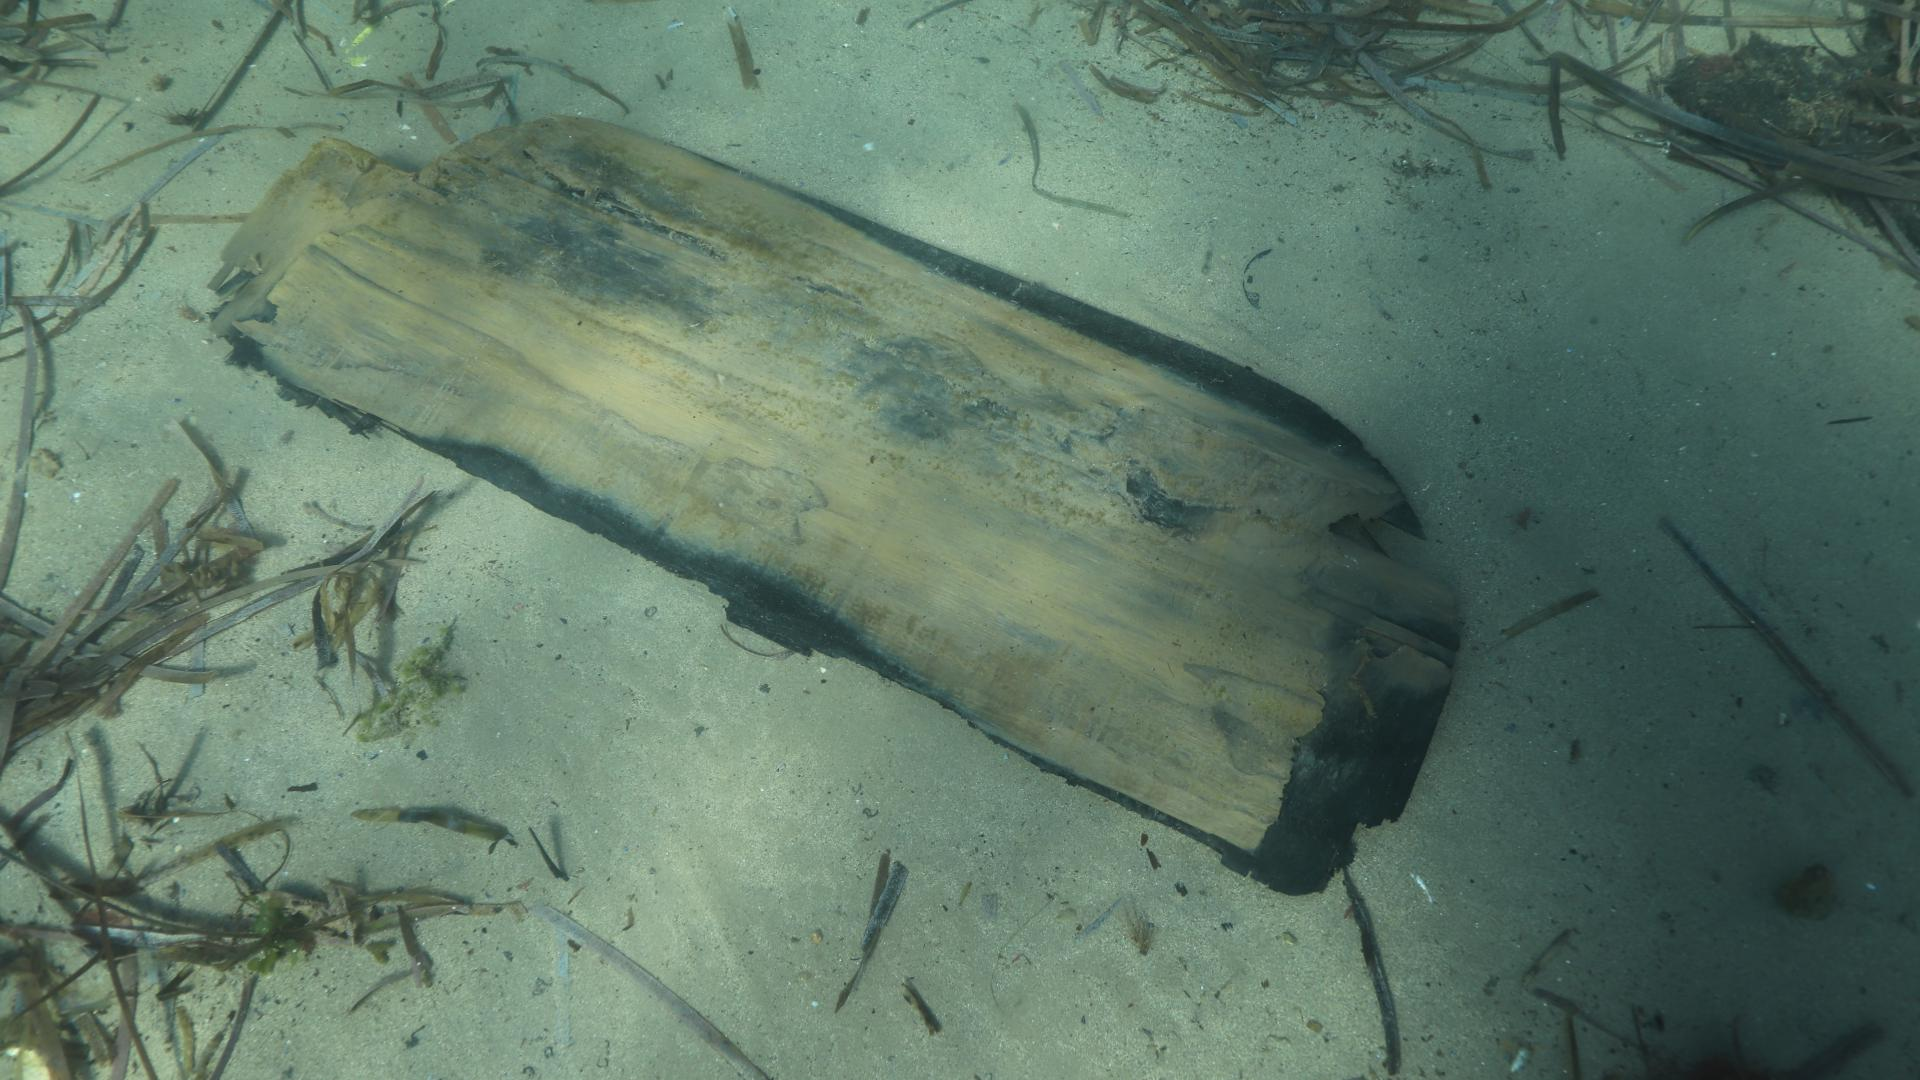wood: (206, 115, 1462, 895)
